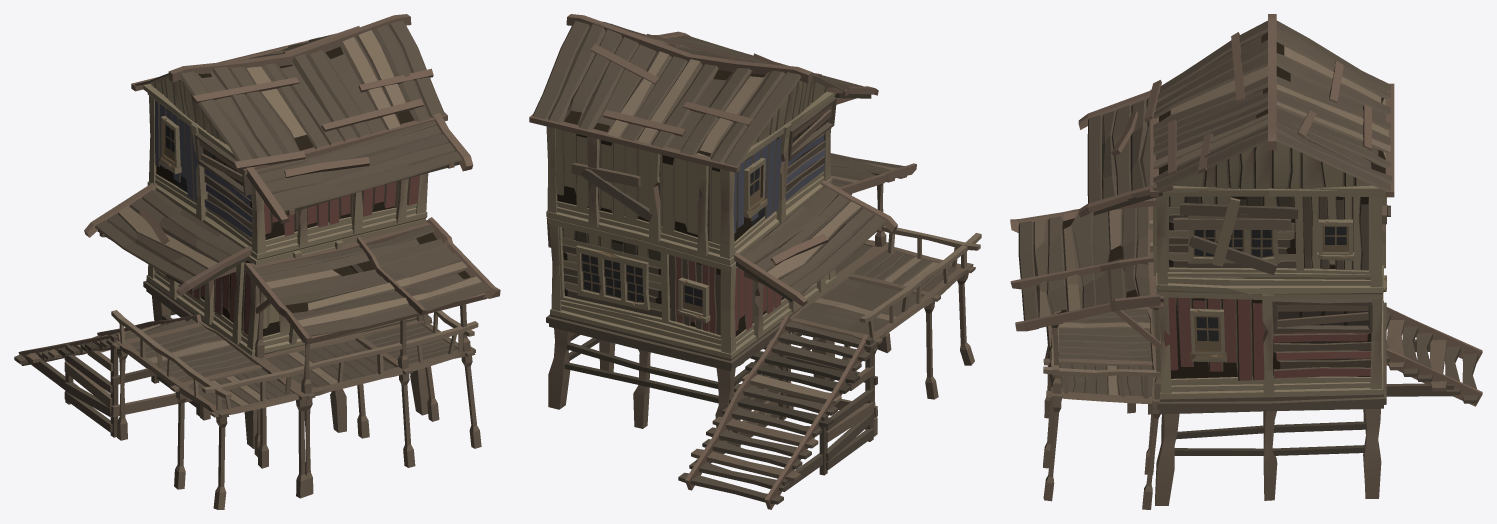
File: SM_Bld_Shanty_Preset_05.glb
3 renders of one model, left to right at view 1: azimuth 30°, elevation 25°; view 2: azimuth 150°, elevation 25°; view 3: azimuth 270°, elevation 25°, orthographic. The views are drawn at different scales.
Parts seen in each view (by area): view 1: SM_Bld_Shanty_Preset_05; view 2: SM_Bld_Shanty_Preset_05; view 3: SM_Bld_Shanty_Preset_05.
Part boxes in pixels (x1=…): SM_Bld_Shanty_Preset_05: x1=14, y1=14, x2=500, y2=509; SM_Bld_Shanty_Preset_05: x1=529, y1=14, x2=981, y2=509; SM_Bld_Shanty_Preset_05: x1=1010, y1=14, x2=1482, y2=509.
Size of the model in its own units: 0.0838 by 0.0938 by 0.1035.
